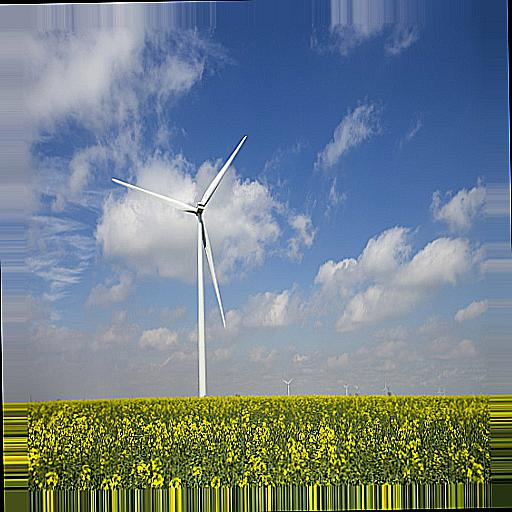wind turbine: (109, 133, 251, 398)
